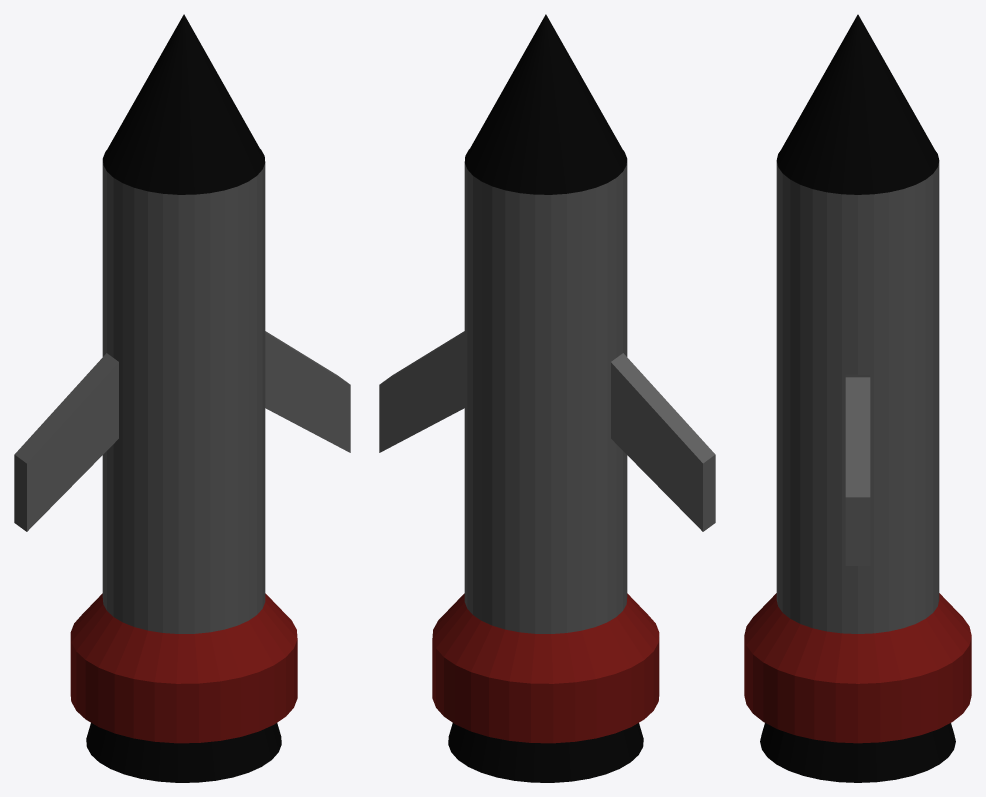
Rendered from Rocket num 1.fbx.
3 renders of one model, left to right at view 1: azimuth 30°, elevation 25°; view 2: azimuth 150°, elevation 25°; view 3: azimuth 270°, elevation 25°, orthographic.
Visible parts, largest first — view 1: Rocket Body, Rocket Thrust Top, Cylinder.002, Left Wing, Thruster, Right Wing; view 2: Rocket Body, Rocket Thrust Top, Cylinder.002, Left Wing, Thruster, Right Wing; view 3: Rocket Body, Rocket Thrust Top, Cylinder.002, Thruster, Right Wing.
Boxes of the visible parts, x1,y1,x2,y2 form: Rocket Body: (102, 159, 265, 633); Rocket Thrust Top: (70, 593, 297, 743); Cylinder.002: (103, 14, 265, 194); Left Wing: (14, 353, 118, 531); Thruster: (86, 723, 281, 782); Right Wing: (265, 331, 350, 452); Rocket Body: (464, 159, 627, 633); Rocket Thrust Top: (432, 593, 659, 743); Cylinder.002: (464, 14, 626, 194); Left Wing: (611, 353, 715, 531); Thruster: (448, 723, 643, 782); Right Wing: (379, 331, 464, 452); Rocket Body: (776, 162, 939, 633); Rocket Thrust Top: (744, 593, 971, 743); Cylinder.002: (776, 14, 939, 194); Thruster: (760, 723, 955, 782); Right Wing: (845, 377, 870, 565).
Bounding box in the file's own units: 459 × 986 × 280.
